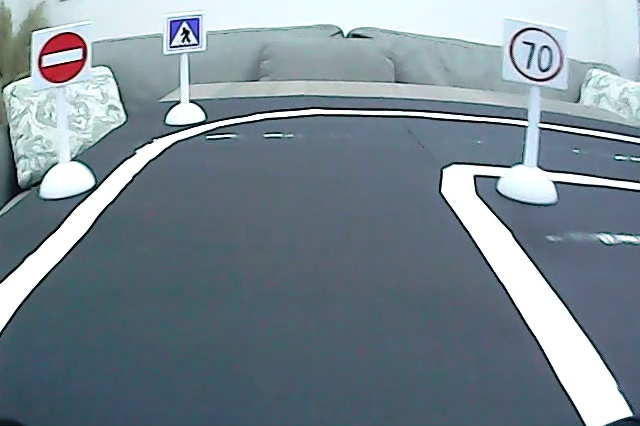do not enter: (34, 29, 90, 87)
pedestrian crossing: (167, 16, 203, 53)
speed limit 70: (507, 22, 567, 86)
